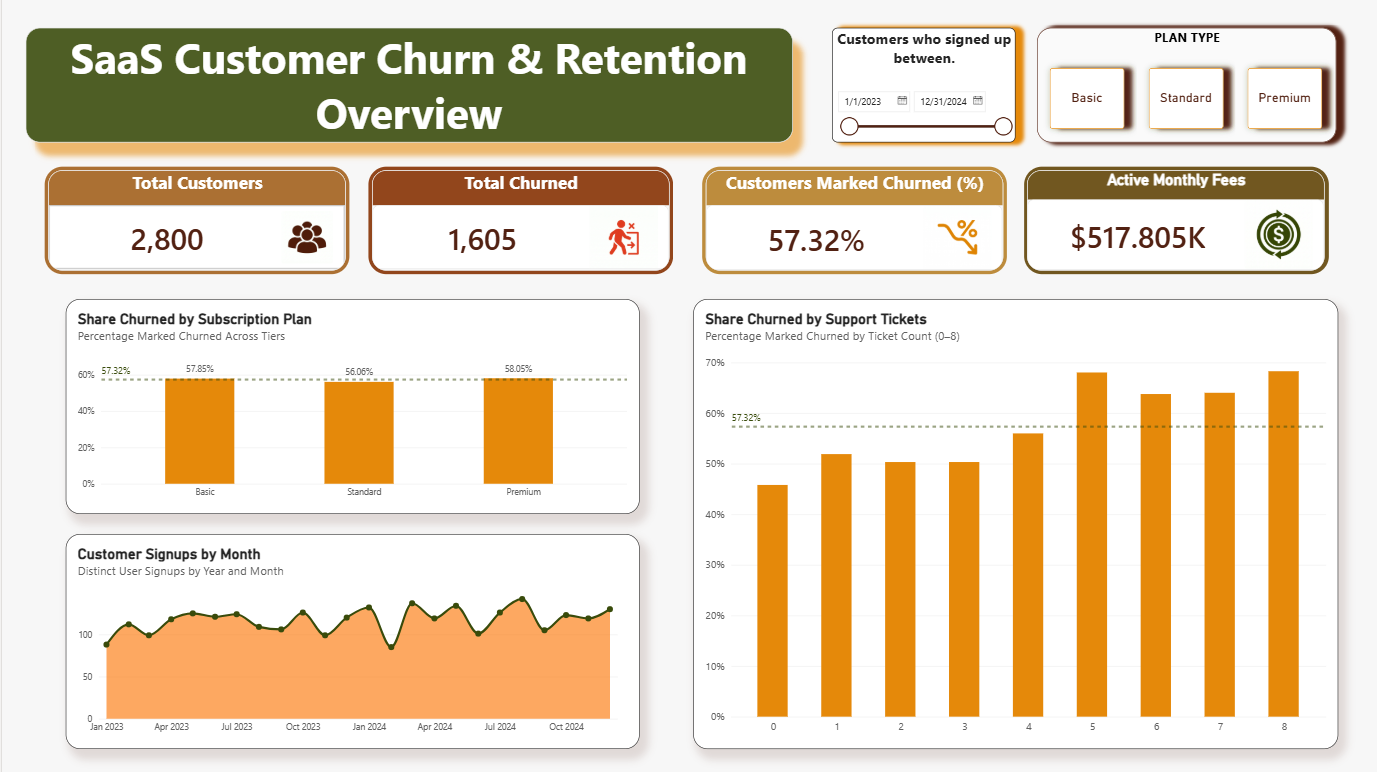

The dashboard page shown, as its layout file describes it:
{"tool":"powerbi","page":{"name":"Executive Overview","canvas":[1920,1080],"ordinal":0},"visuals":[{"type":"textbox","box":[32.5,40,1070,160],"z":0},{"type":"advancedSlicerVisual","title":"PLAN TYPE","fields":{"Values":["clean_saas_data.plan_type"]},"box":[1445,40,417.5,160],"z":1000},{"type":"slicer","title":"Customers who signed up between.","fields":{"Values":["clean_saas_data.signup_date"]},"box":[1158,40,256,160],"z":2000},{"type":"cardVisual","title":"Total Customers","fields":{"Data":["clean_saas_data.Total Customers"]},"box":[64,238.4,415,140],"z":3000},{"type":"cardVisual","title":"Total Churned","fields":{"Data":["clean_saas_data.Total Churned"]},"box":[516,238.4,415,140],"z":4000},{"type":"cardVisual","title":"Active Monthly Fees","fields":{"Data":["clean_saas_data.Active Monthly Fees"]},"box":[1430,238.4,415,140],"z":5000},{"type":"cardVisual","title":"Customers Marked Churned (%)","fields":{"Data":["clean_saas_data.Churn Rate %"]},"box":[982,238.4,415,140],"z":6000},{"type":"clusteredColumnChart","title":"Share Churned by Subscription Plan","fields":{"Category":["clean_saas_data.plan_type"],"Y":["clean_saas_data.Churn Rate %"]},"box":[89.2,418.9,800.5,300],"z":7000},{"type":"clusteredColumnChart","title":"Share Churned by Support Tickets","fields":{"Category":["clean_saas_data.support_tickets"],"Y":["clean_saas_data.Churn Rate %"]},"box":[964,418,900,628],"z":8000},{"type":"lineChart","title":"Customer Signups by Month","fields":{"Category":["clean_saas_data.signup_date.Variation.Date Hierarchy.Year","clean_saas_data.signup_date.Variation.Date Hierarchy.Month"],"Y":["clean_saas_data.Total Customers"]},"box":[89.2,746.6,800.5,300],"z":9000}]}

Visuals, with their boxes in screenshot pixels (x1, y1, x2, y2), scaled from the page's 1920x1080 canvas onto the 1377x772 screenshot:
textbox: box(23, 29, 791, 143)
"PLAN TYPE" advancedSlicerVisual: box(1036, 29, 1336, 143)
"Customers who signed up between." slicer: box(831, 29, 1014, 143)
"Total Customers" cardVisual: box(46, 170, 344, 270)
"Total Churned" cardVisual: box(370, 170, 668, 270)
"Active Monthly Fees" cardVisual: box(1026, 170, 1323, 270)
"Customers Marked Churned (%)" cardVisual: box(704, 170, 1002, 270)
"Share Churned by Subscription Plan" clusteredColumnChart: box(64, 299, 638, 514)
"Share Churned by Support Tickets" clusteredColumnChart: box(691, 299, 1337, 748)
"Customer Signups by Month" lineChart: box(64, 534, 638, 748)
